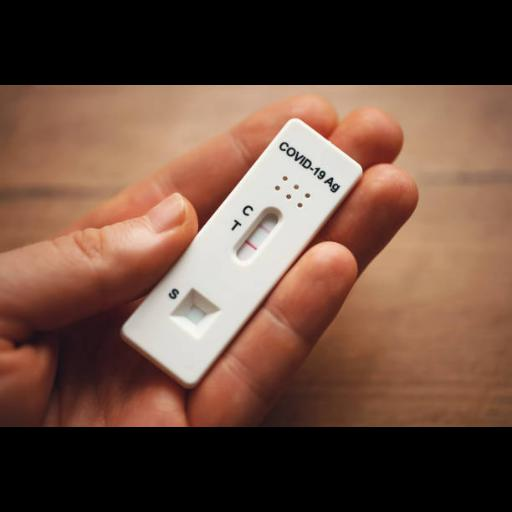Pos: (118, 116, 366, 388)
